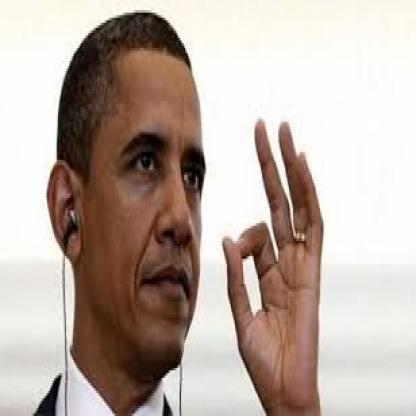ok: (216, 108, 326, 414)
